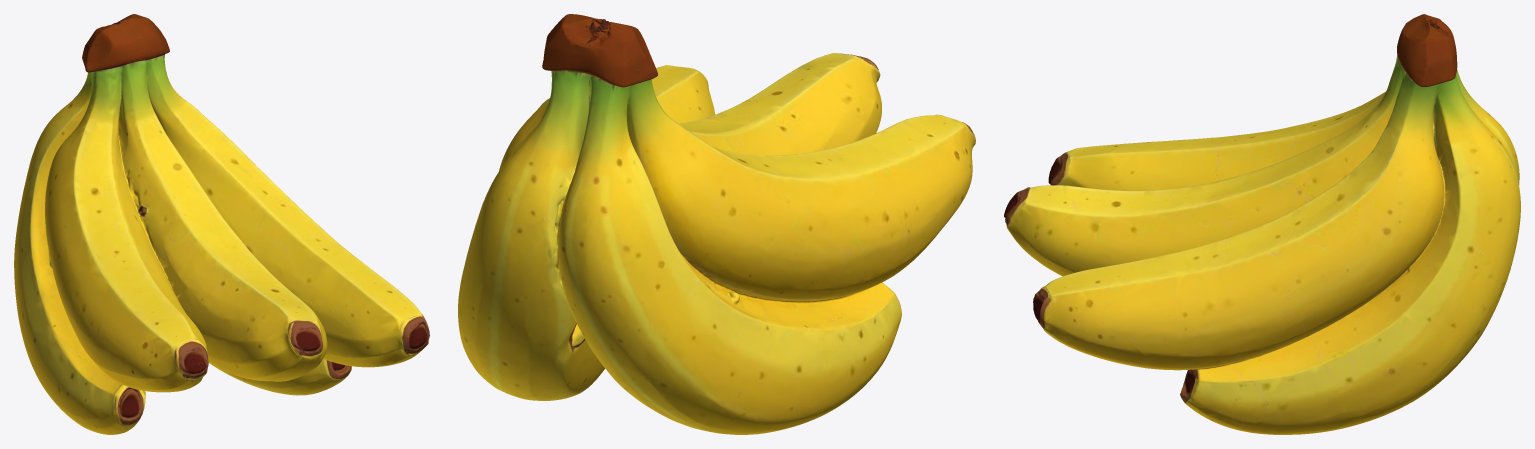
Rendered from platano.glb.
3 renders of one model, left to right at view 1: azimuth 30°, elevation 25°; view 2: azimuth 150°, elevation 25°; view 3: azimuth 270°, elevation 25°, orthographic. The views are drawn at different scales.
Size of the model in its own units: 1.28 by 1.48 by 1.9.
1 material, 1 textured.
